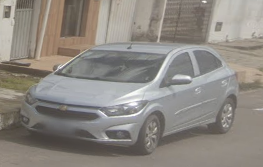car: (18, 41, 240, 155)
